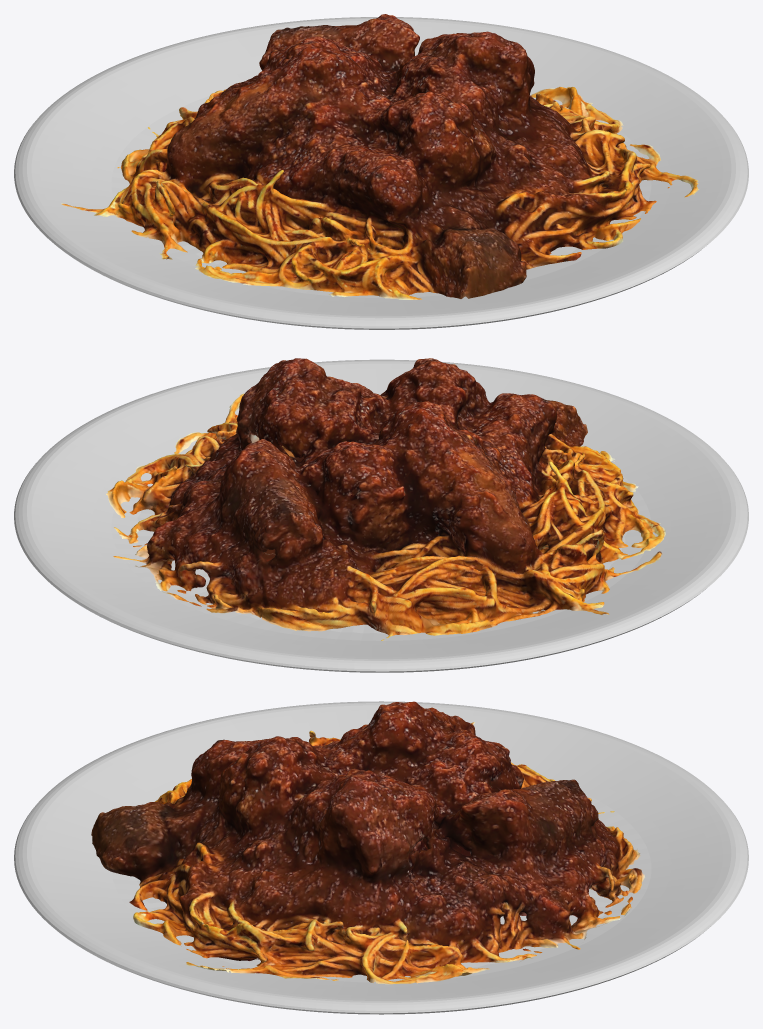
Rendered from Pastameatballs.fbx.
The picture shows the model from 3 angles, top to bottom: view 1: azimuth 30°, elevation 25°; view 2: azimuth 150°, elevation 25°; view 3: azimuth 270°, elevation 25°; orthographic projection.
Visible parts, largest first — view 1: 3DModel, Circle; view 2: 3DModel, Circle; view 3: 3DModel, Circle.
Part boxes in pixels (box(x1,y1,x2,y2)): 3DModel: box(61, 14, 699, 299); Circle: box(14, 17, 748, 329); 3DModel: box(106, 358, 665, 640); Circle: box(14, 359, 748, 672); 3DModel: box(91, 701, 644, 984); Circle: box(14, 701, 748, 1014).
Bounding box in the file's own units: 975 × 240 × 975.
